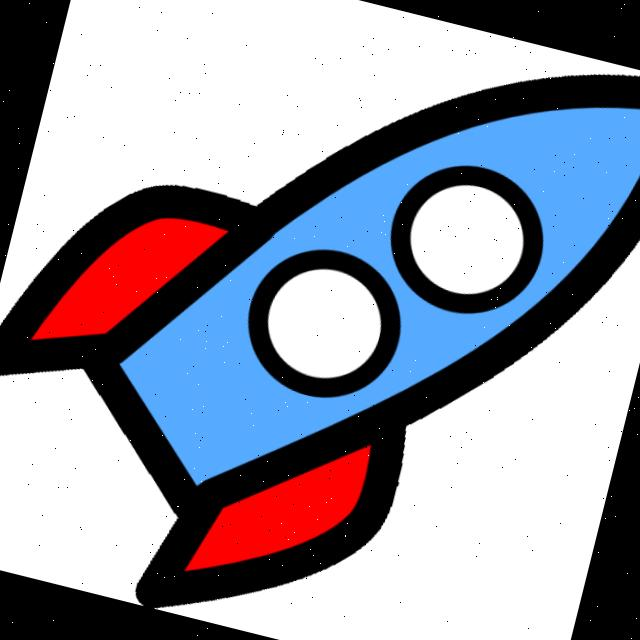rocket: (0, 69, 640, 612)
